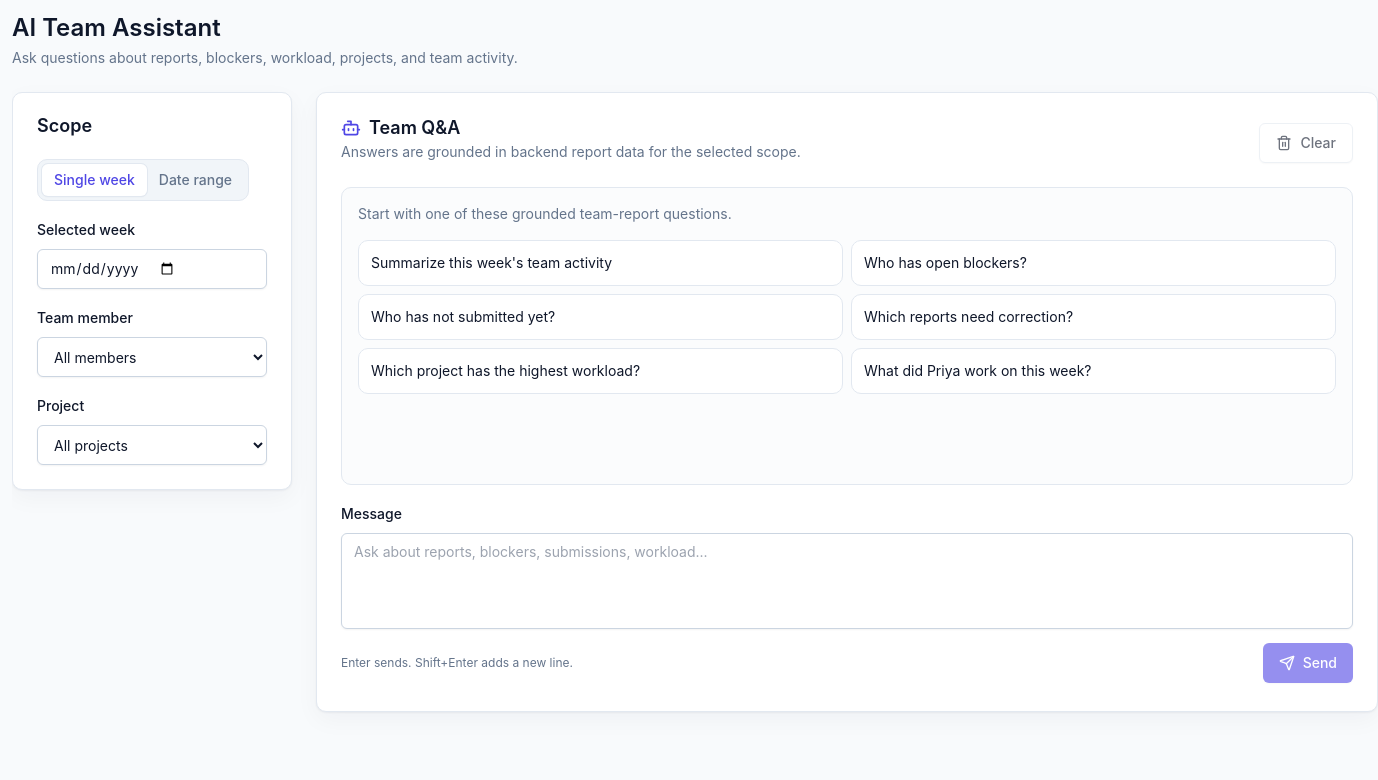
Test: ManagerAiAssistantPage › renders model-unavailable errors without a retry action
This screenshot has width=1378, height=780.
Type "Who has open blockers?" into the text box labelled "Message" at (847, 581), box [341,533,1353,629]
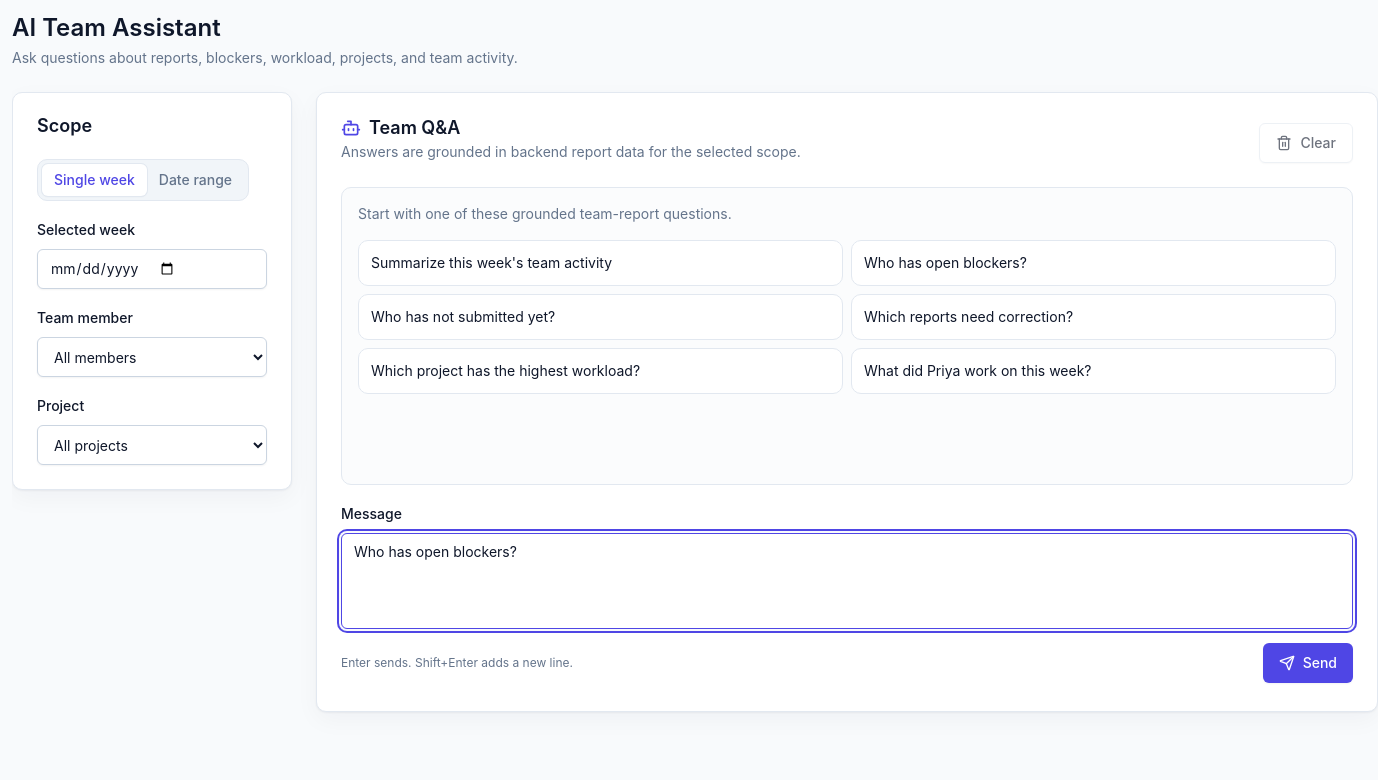
Click the button "Send" at (1308, 663), box [1263,643,1353,683]
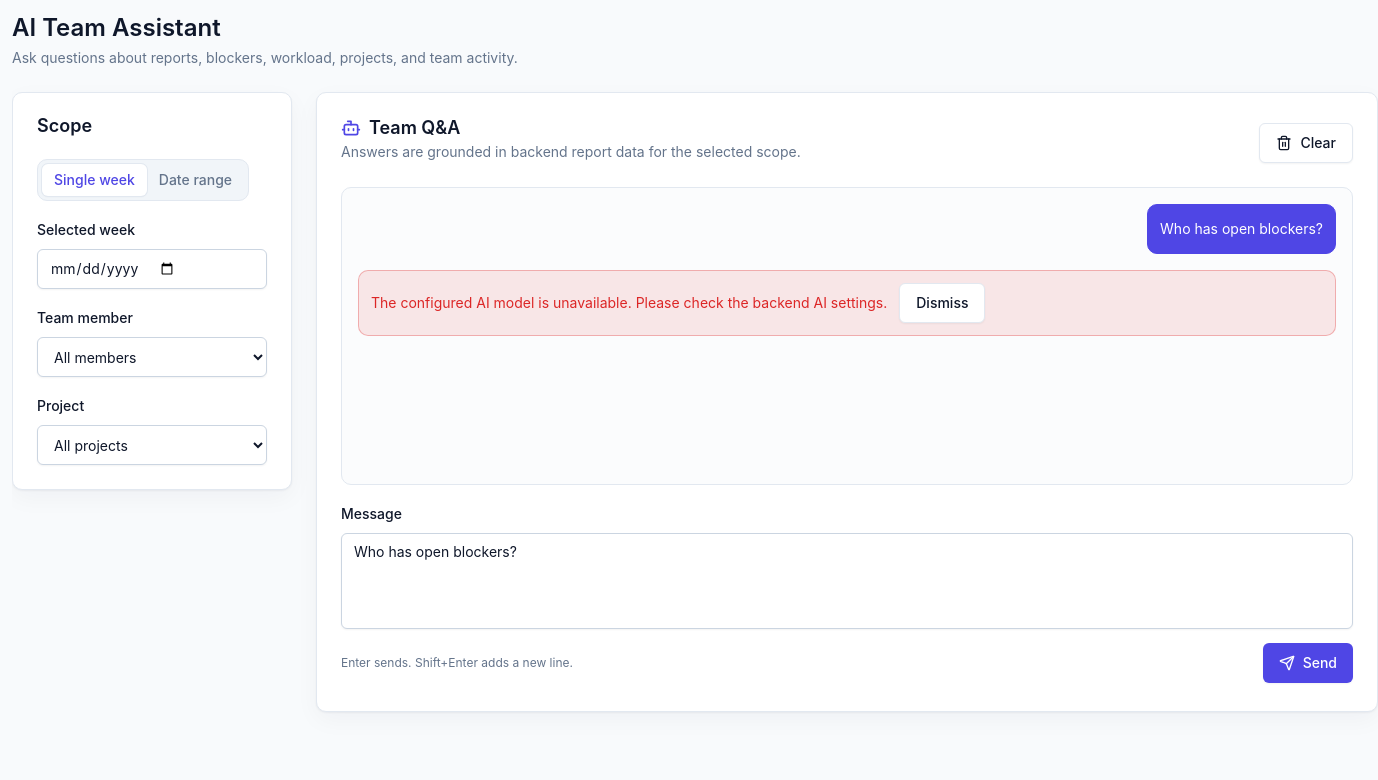
Result: the text "The configured AI model is unavailable. Please check the backend AI settings." is shown at [371,294,887,311]
